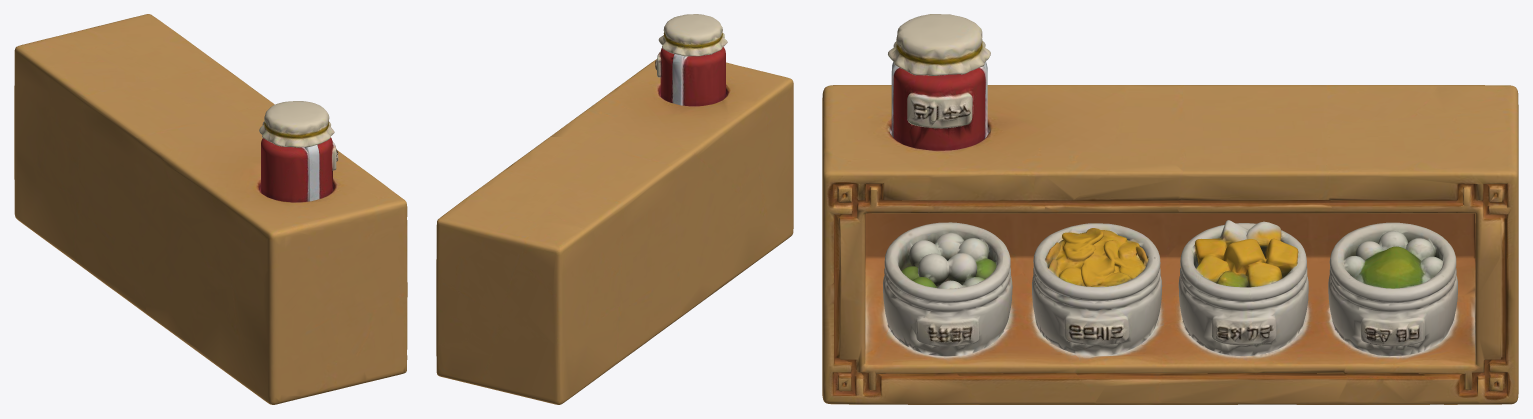
File: KR_사물_s1_station_topping_t2_old.glb
The picture shows the model from 3 angles, left to right: view 1: azimuth 30°, elevation 25°; view 2: azimuth 150°, elevation 25°; view 3: azimuth 270°, elevation 25°; orthographic projection. The views are drawn at different scales.
Parts seen in each view (by area): view 1: tripo_node_e3eec168-e92c-4ccf-9e66-09bdb924de14; view 2: tripo_node_e3eec168-e92c-4ccf-9e66-09bdb924de14; view 3: tripo_node_e3eec168-e92c-4ccf-9e66-09bdb924de14.
Boxes of the visible parts, bbox=[...] form: tripo_node_e3eec168-e92c-4ccf-9e66-09bdb924de14: bbox=[14, 14, 407, 404]; tripo_node_e3eec168-e92c-4ccf-9e66-09bdb924de14: bbox=[436, 14, 793, 404]; tripo_node_e3eec168-e92c-4ccf-9e66-09bdb924de14: bbox=[822, 14, 1518, 404].
Bounding box in the file's own units: 0.307 × 0.529 × 1.
1 material, 1 textured.
